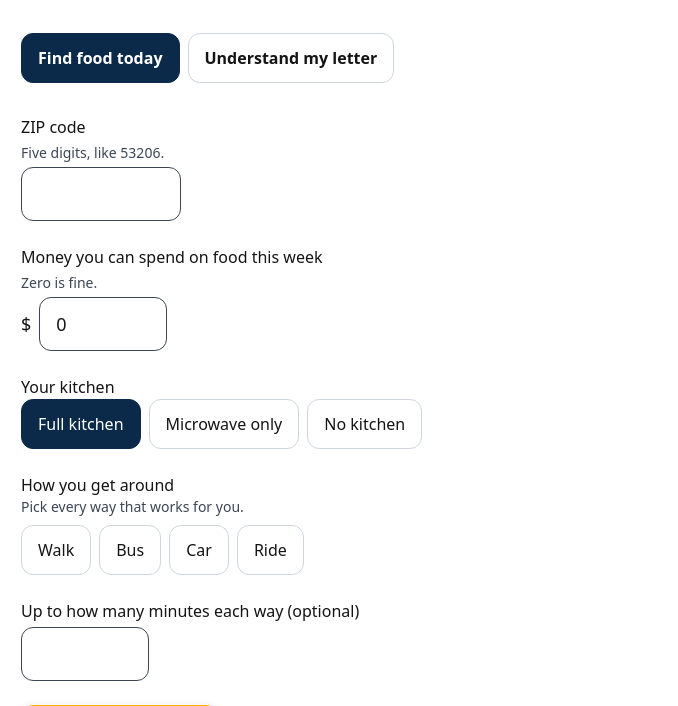
Food today page › refuses an empty travel choice and sends nothing
In the field labelled "ZIP code": (101, 194) top-left (21, 167), bottom-right (181, 221), type "53206"
(page scrolled)
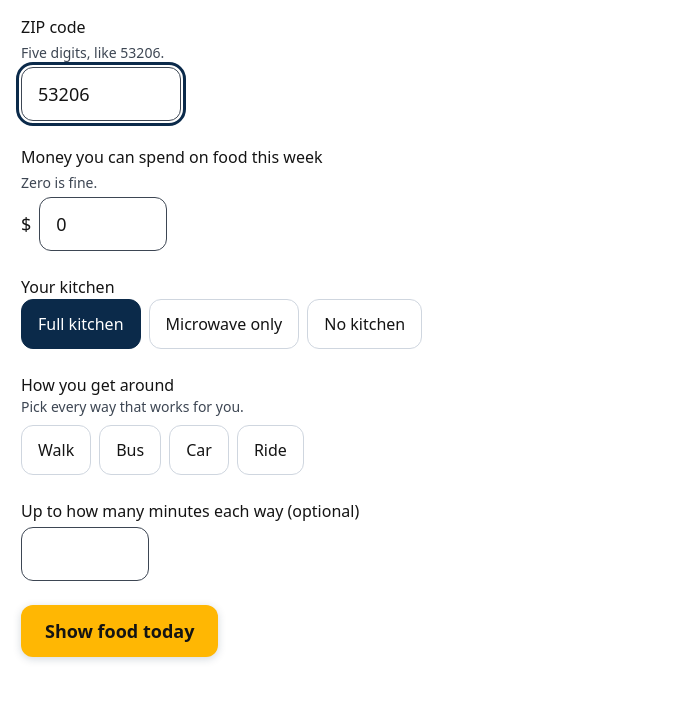
Click the button "Show food today": (120, 631) top-left (21, 605), bottom-right (218, 657)
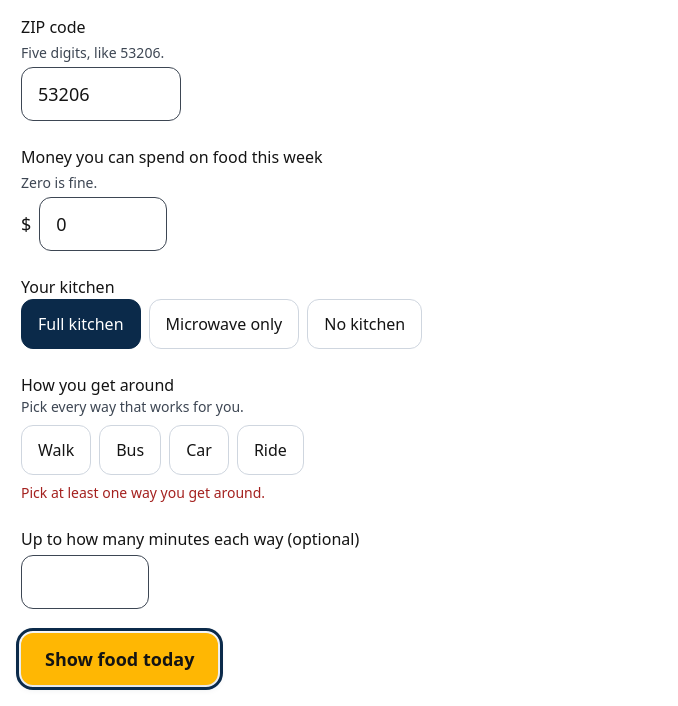
Expected: the message reads "Pick at least one way you get around.", top-left (21, 483), bottom-right (265, 502)
